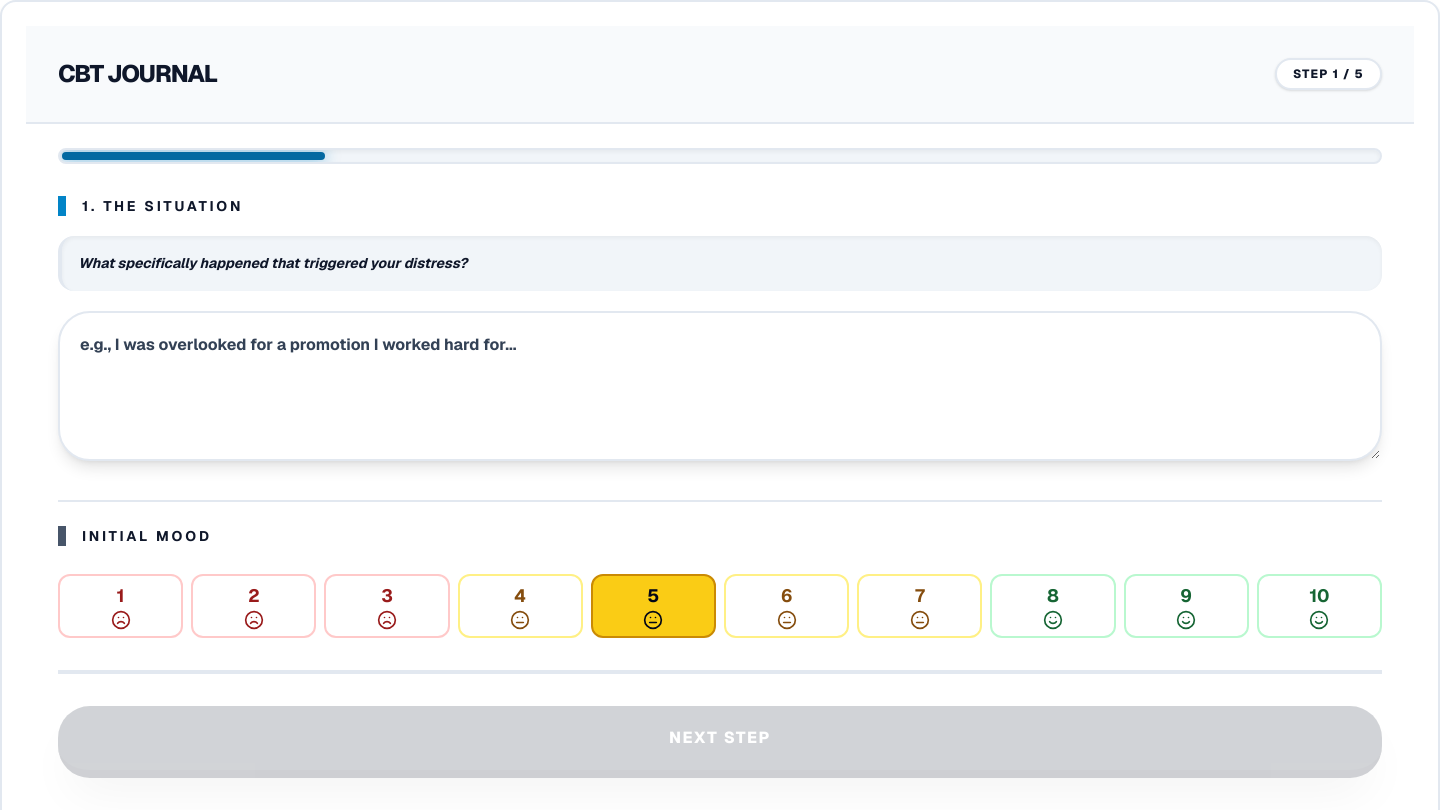
CBTLogForm Flow & Integration › displays error message if AI analysis fails
The width and height of the screenshot is (1440, 810).
Step 1. Type "s" into the text box with placeholder "e.g., I was overlooked for a promotion I worked hard for..." → point(720, 386), box [58,311,1382,461]
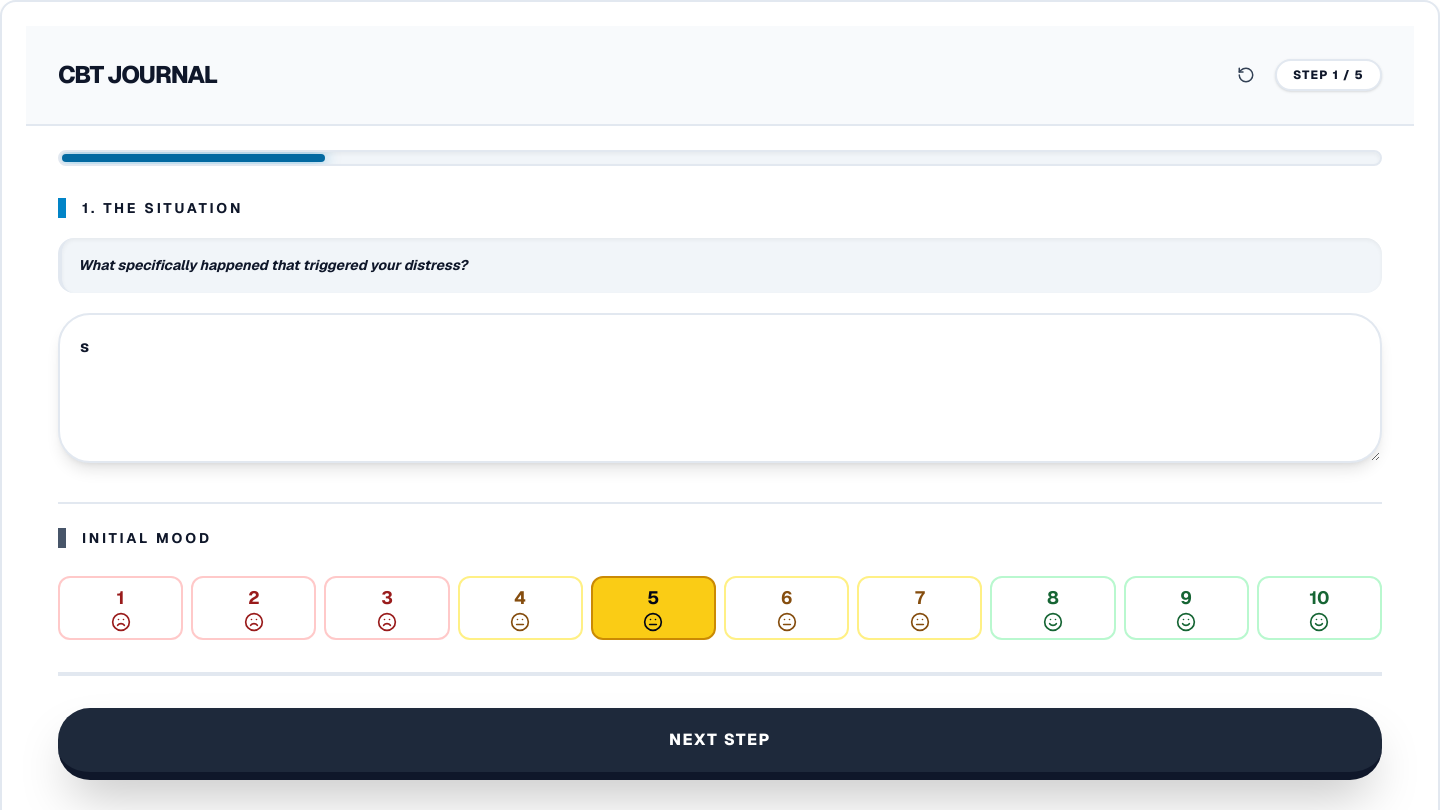
Step 2. Click the button "Next Step" → point(720, 744), box [58,708,1382,780]
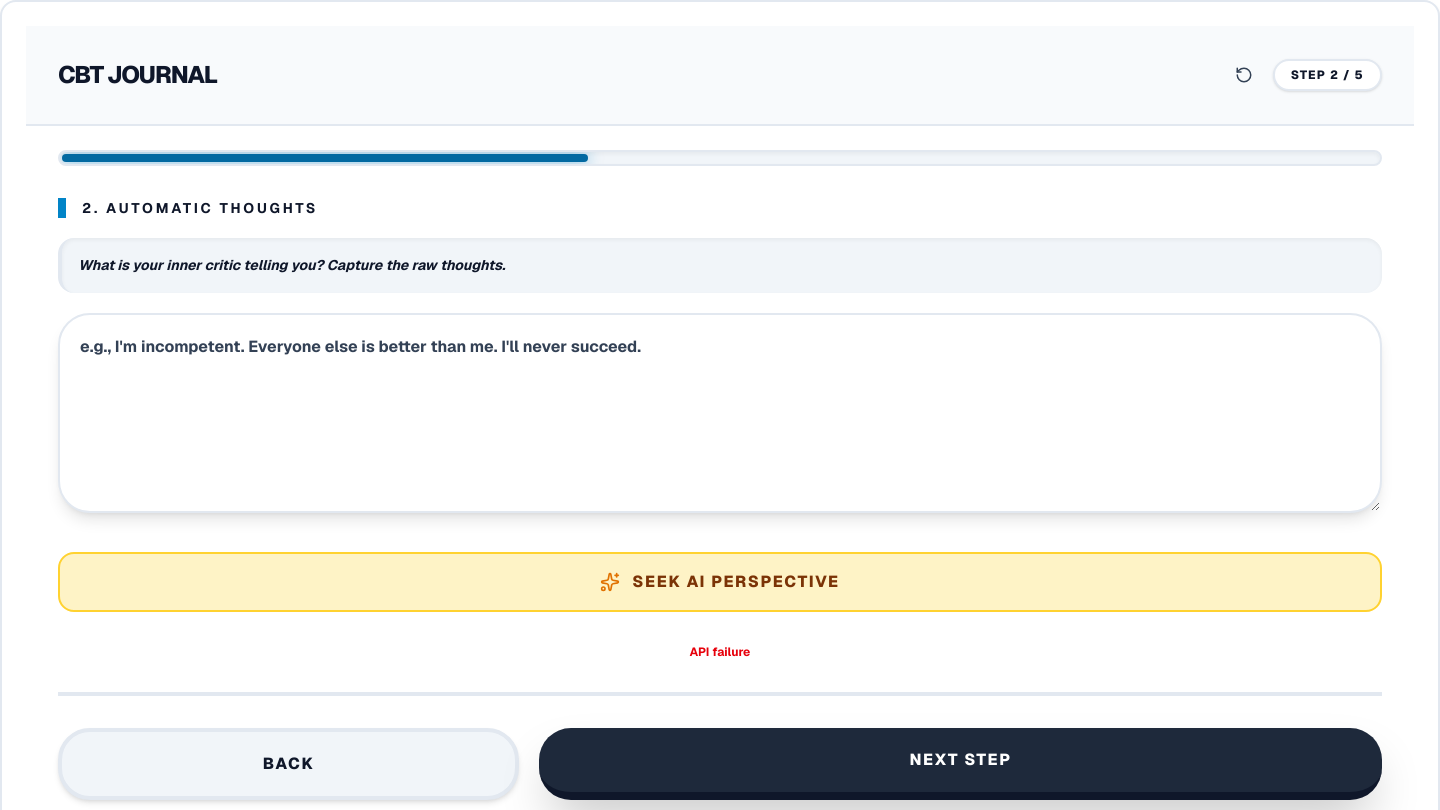
Expected: the text "API failure" is shown, [690,644,750,660]
